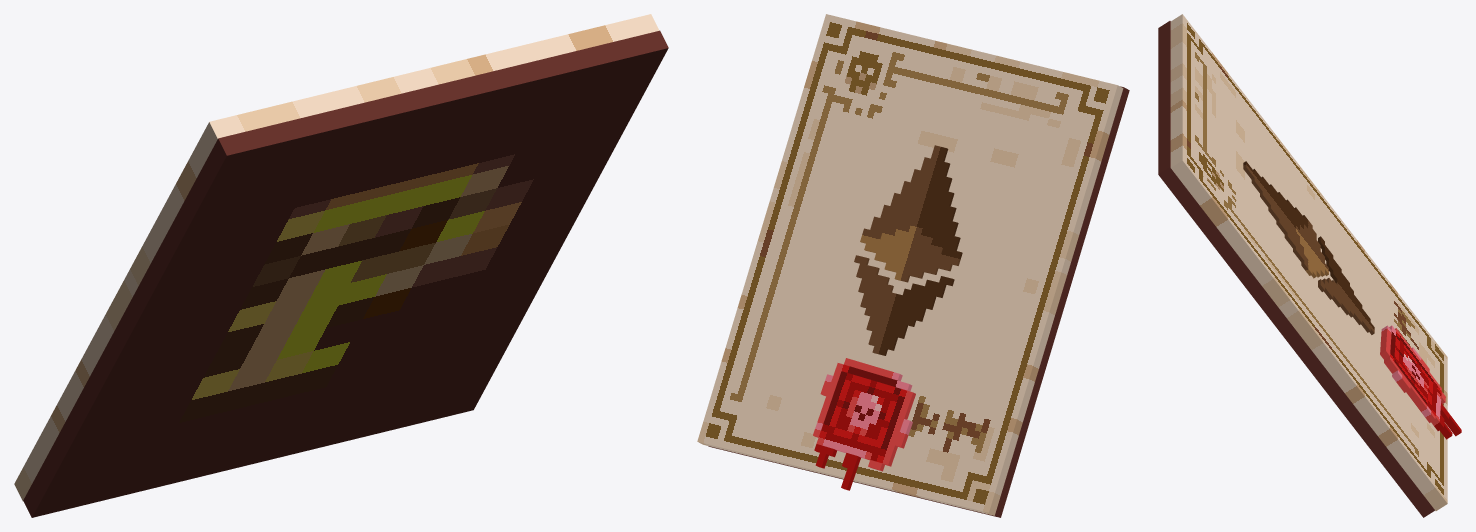
The picture shows the model from 3 angles, left to right: view 1: azimuth 30°, elevation 25°; view 2: azimuth 150°, elevation 25°; view 3: azimuth 270°, elevation 25°; orthographic projection. The views are drawn at different scales.
Parts seen in each view (by area): view 1: IOU_rear-Local, IOU_front-Local; view 2: IOU_front-Local, eth_logo-Local, seal$$(1)-Local, IOU_rear-Local; view 3: IOU_front-Local, IOU_rear-Local, eth_logo-Local, seal$$(1)-Local.
Part boxes in pixels (x1,y1,x2,y2): IOU_rear-Local: [23, 30, 668, 517]; IOU_front-Local: [14, 14, 659, 500]; IOU_front-Local: [697, 14, 1123, 515]; eth_logo-Local: [854, 145, 962, 355]; seal$$(1)-Local: [813, 358, 915, 490]; IOU_rear-Local: [708, 86, 1129, 517]; IOU_front-Local: [1170, 14, 1447, 510]; IOU_rear-Local: [1158, 21, 1434, 517]; eth_logo-Local: [1243, 161, 1374, 334]; seal$$(1)-Local: [1380, 325, 1461, 439].
Bounding box in the file's own units: 48.03 × 54.59 × 42.
4 materials, 4 textured.
